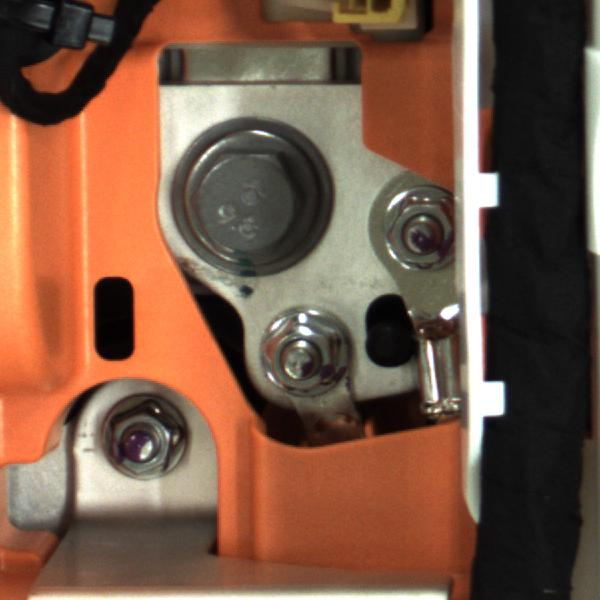nut_b: (157, 115, 344, 280)
screw_s: (87, 390, 198, 486), (259, 307, 353, 408), (374, 186, 468, 285)
